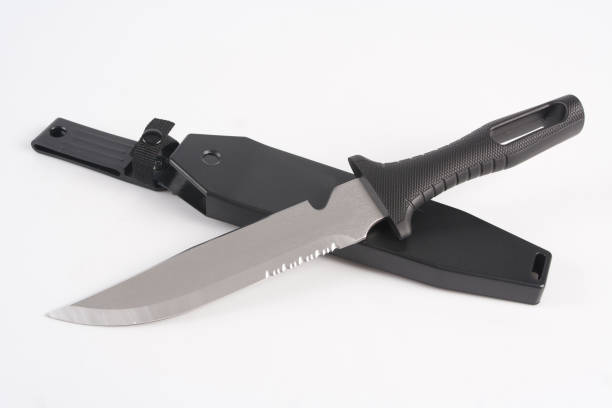knife: (45, 94, 586, 328)
